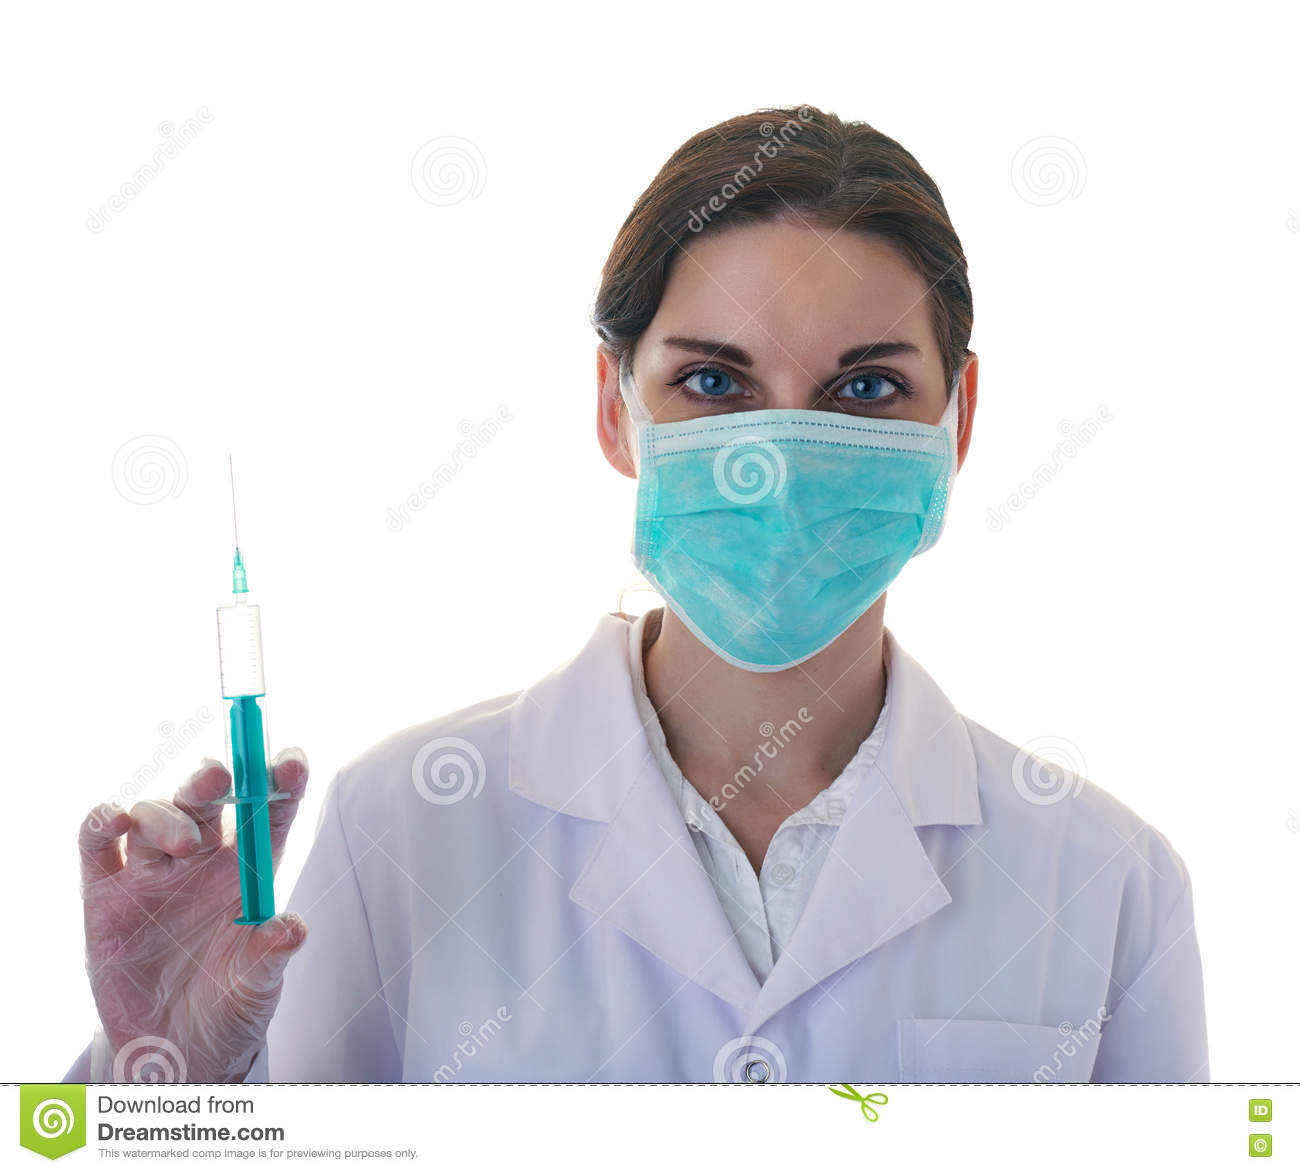mask: (628, 403, 949, 680)
